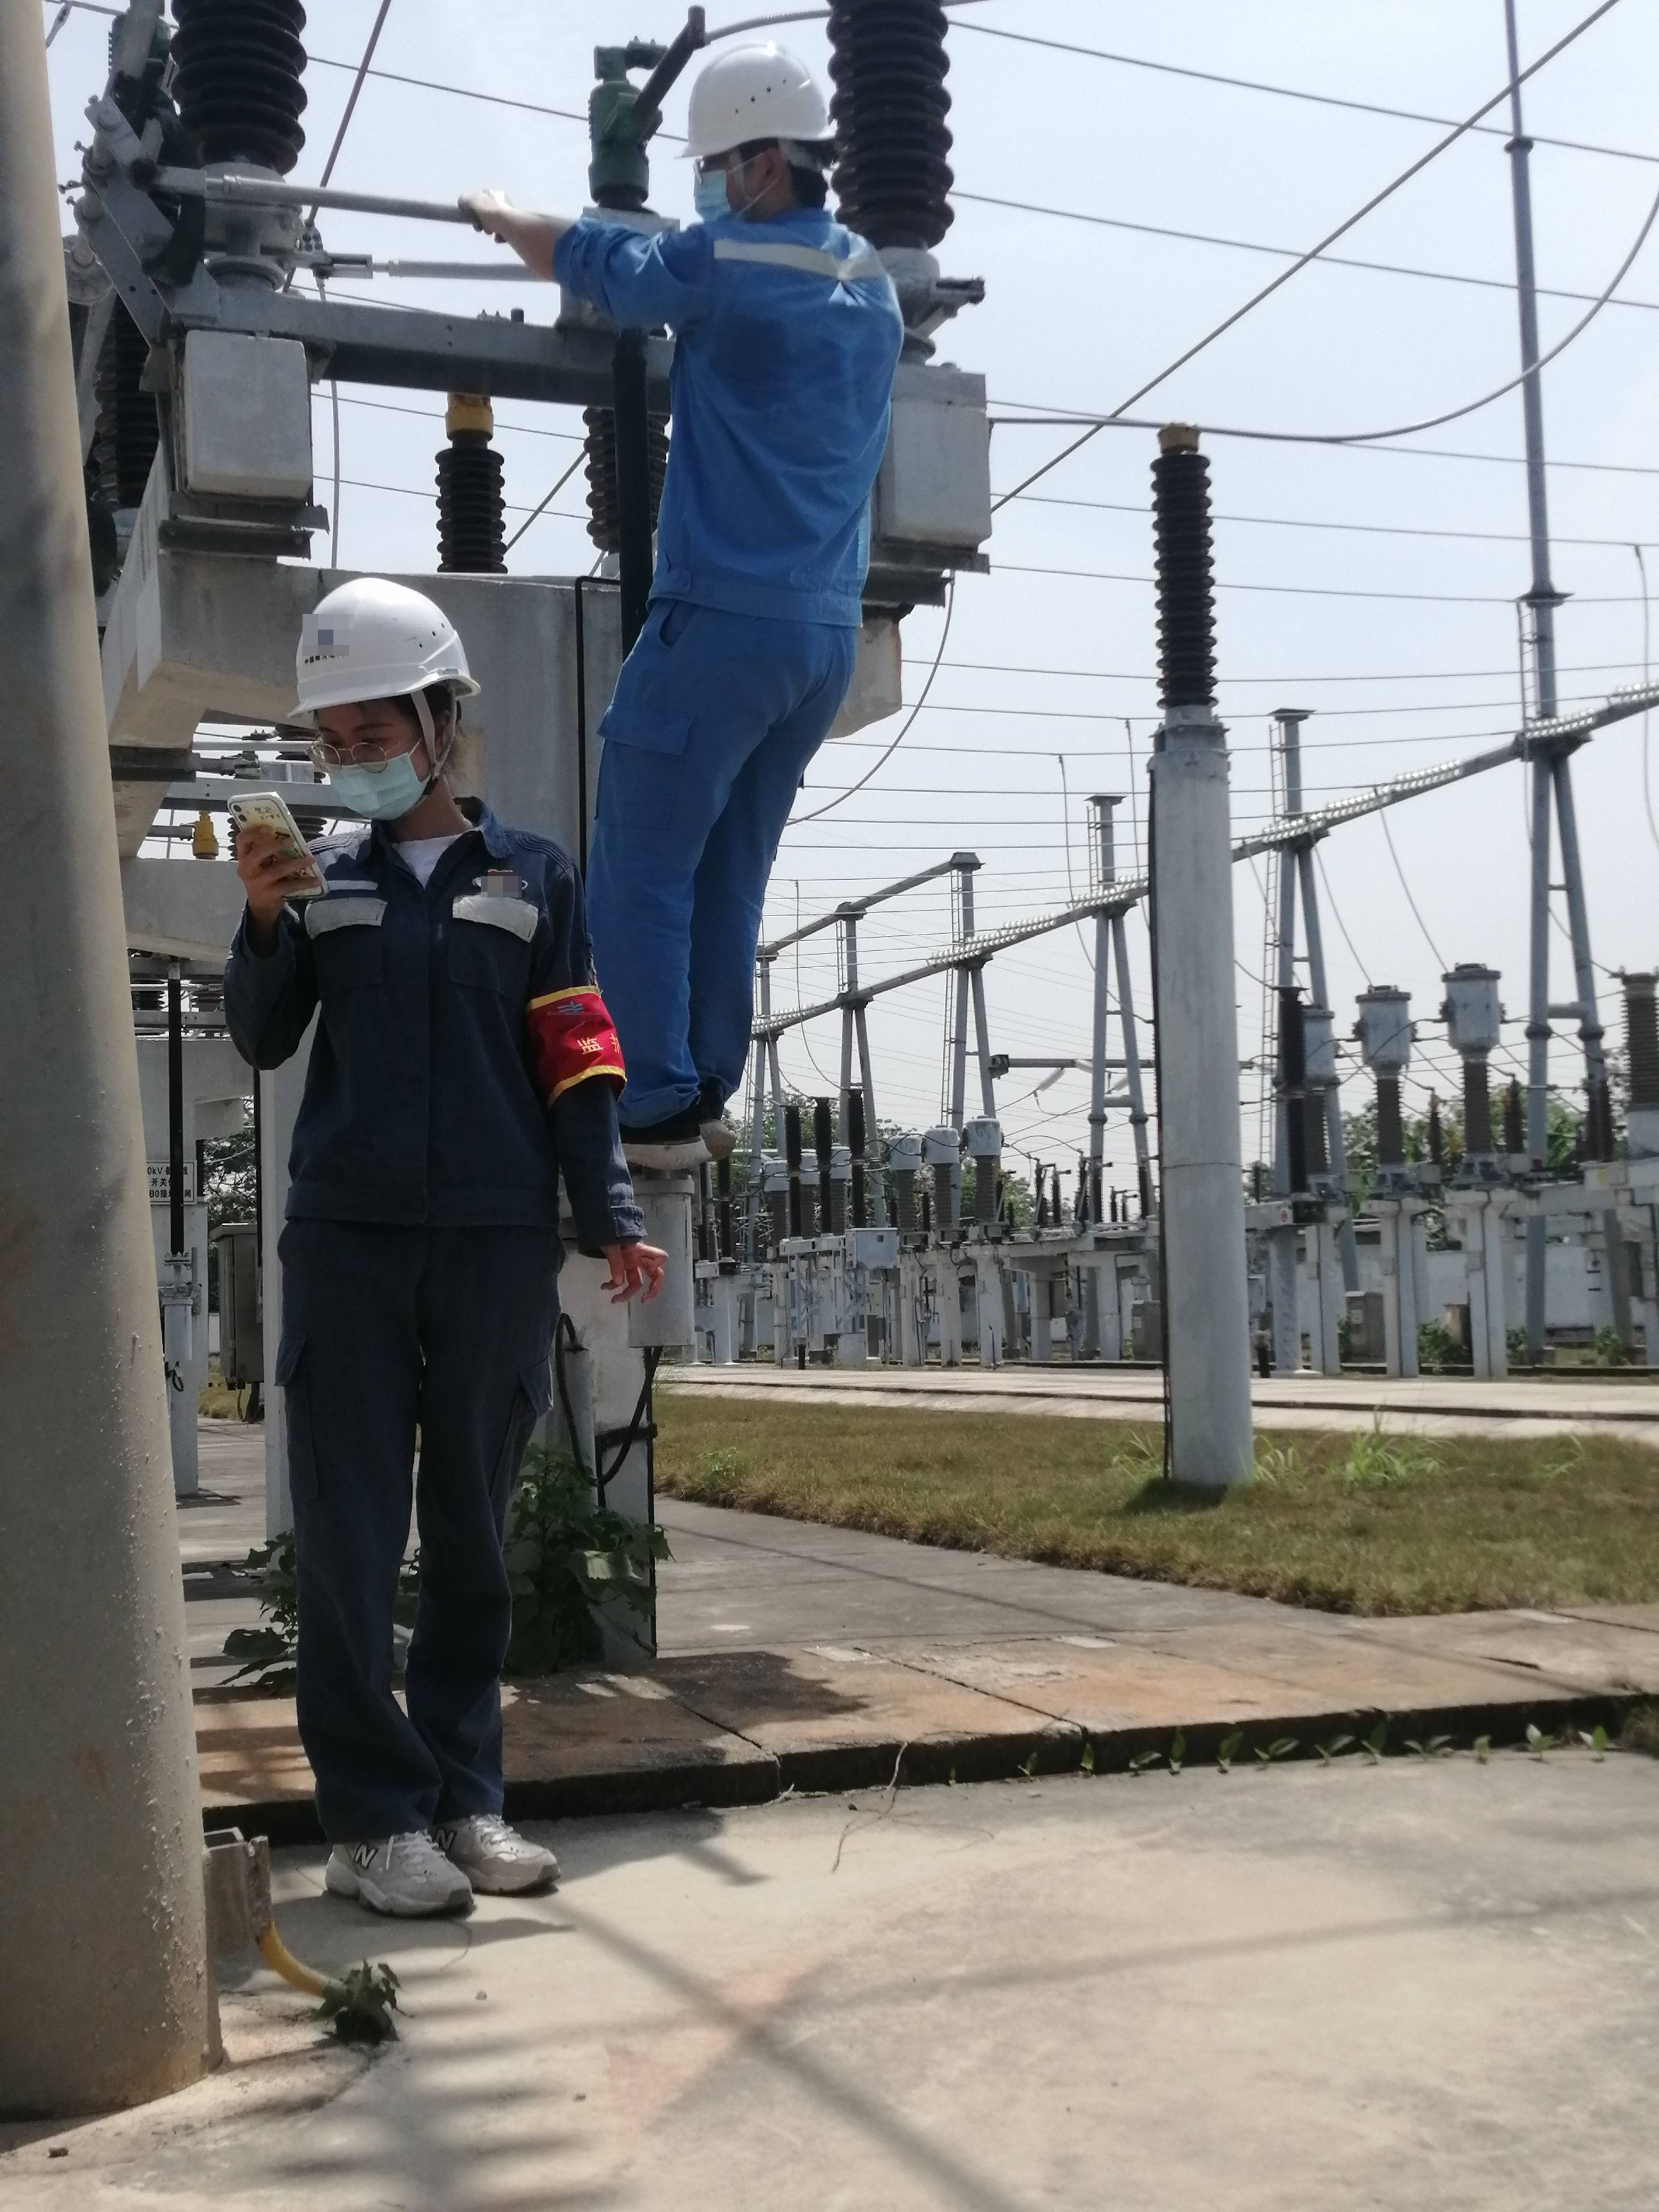downsuit: (289, 1219, 575, 1844), (589, 625, 856, 1115)
upsuit: (237, 801, 643, 1245), (558, 212, 903, 629)
wrongtop: (458, 188, 587, 280)
